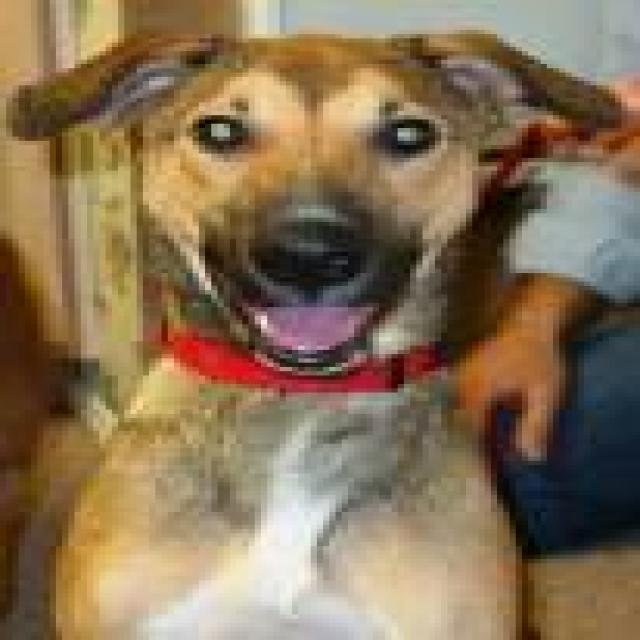dog: (0, 25, 634, 636)
